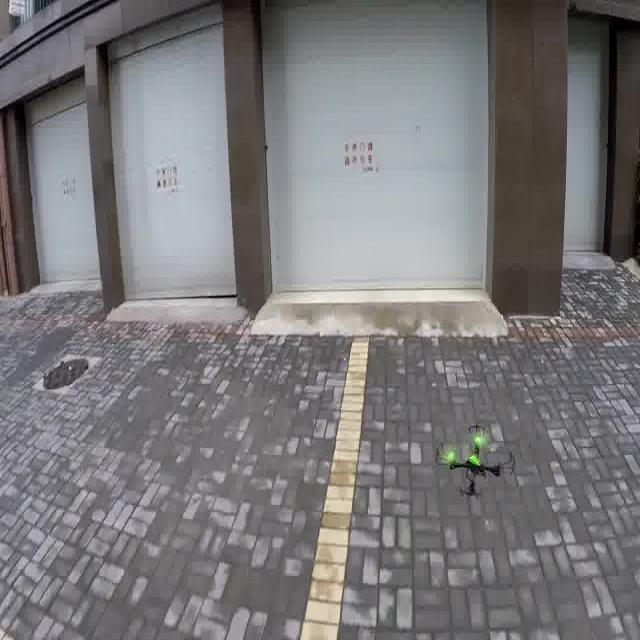drone: (430, 418, 522, 506)
